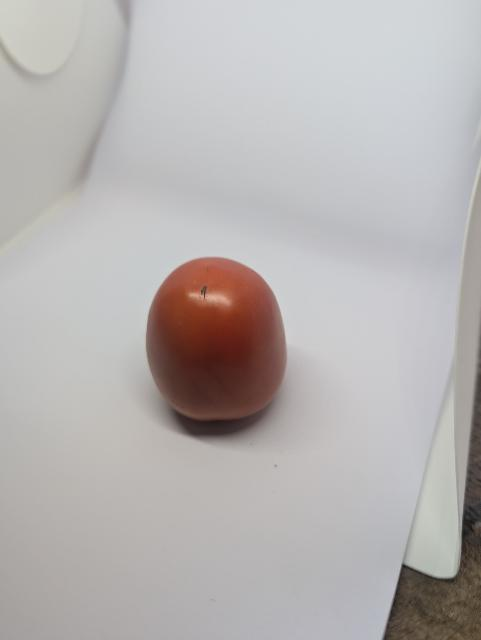red: (136, 242, 309, 436)
